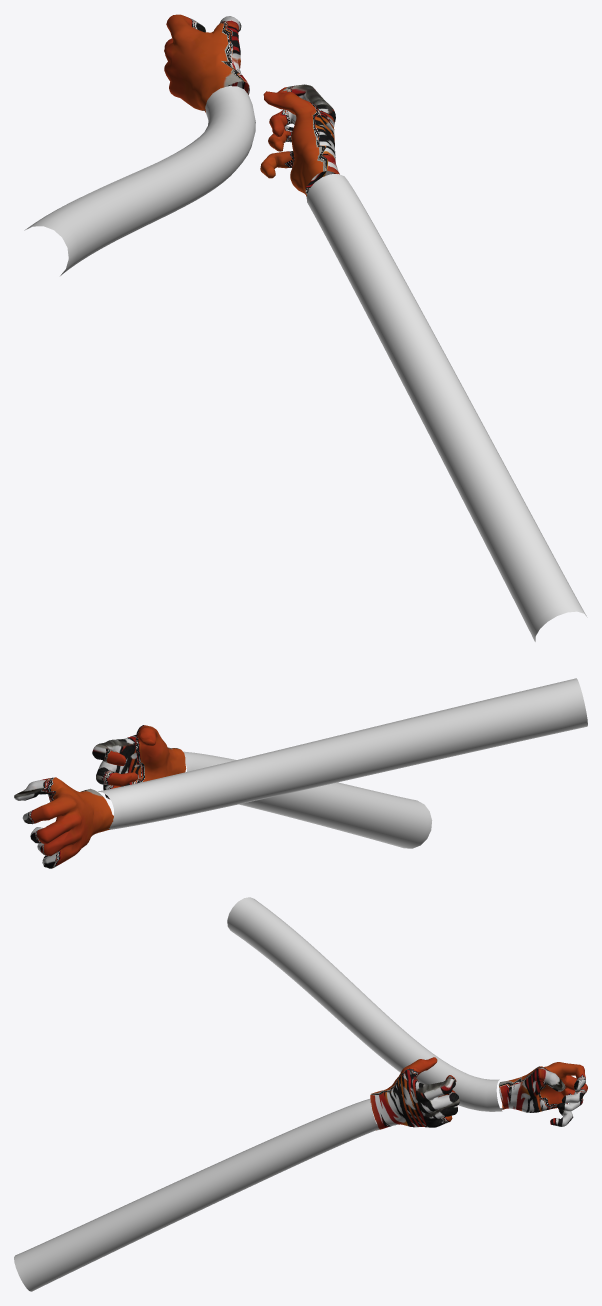
The model's file is fpa_akr12.glb.
3 renders of one model, top to bottom at view 1: azimuth 30°, elevation 25°; view 2: azimuth 150°, elevation 25°; view 3: azimuth 270°, elevation 25°, orthographic. The views are drawn at different scales.
Visible parts, largest first — view 1: arms, hands; view 2: arms, hands; view 3: arms, hands.
Part boxes in pixels (x1,y1,x2,y2): arms: (24, 86, 587, 641); hands: (164, 14, 339, 196); arms: (98, 678, 587, 848); hands: (14, 725, 186, 868); arms: (14, 897, 502, 1291); hands: (370, 1057, 587, 1130).
Size of the model in its own units: 0.888 by 0.7524 by 1.44.
1 material, 1 textured.
